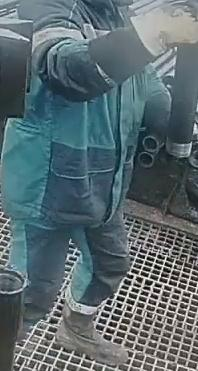gloves: (121, 10, 198, 61)
vest: (7, 10, 148, 218)
